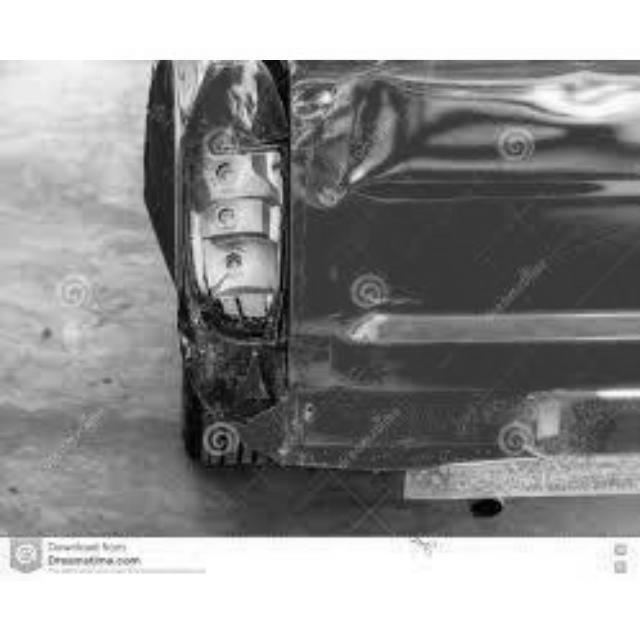Taillight-Damage: (140, 60, 337, 355)
